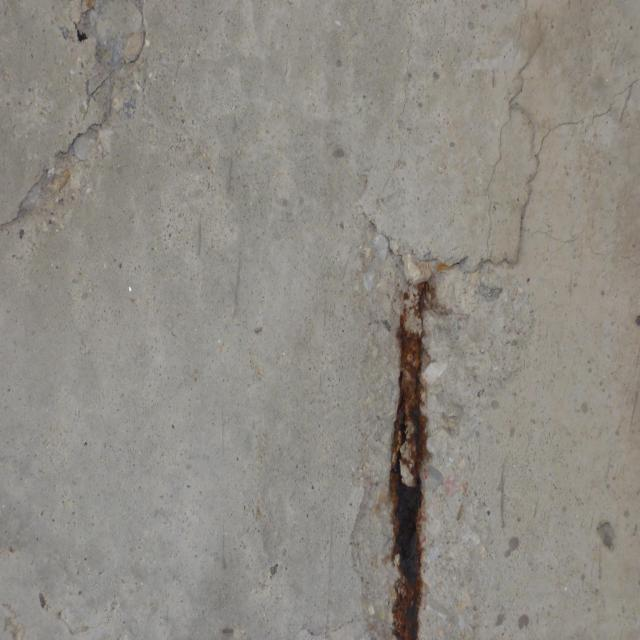Rebar: (348, 214, 534, 640)
concrete spalling: (0, 0, 147, 227), (38, 590, 90, 635), (1, 601, 27, 640)
horizontal crack: (295, 618, 364, 638)
multi-branched crack: (485, 9, 640, 268)
vertical crack: (372, 0, 412, 220)
